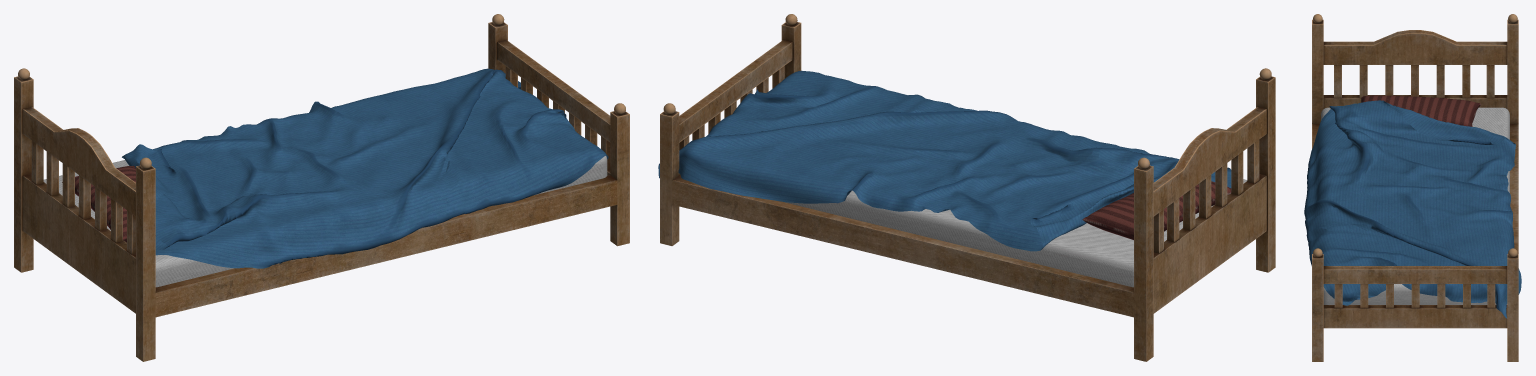
Rendered from Guest Bed.fbx.
The picture shows the model from 3 angles, left to right: view 1: azimuth 30°, elevation 25°; view 2: azimuth 150°, elevation 25°; view 3: azimuth 270°, elevation 25°; orthographic projection. The views are drawn at different scales.
Visible parts, largest first — view 1: Lowgo, Cube.017, Cube.010; view 2: Lowgo, Cube.017, Cube.010; view 3: Lowgo, Cube.017, Cube.010.
Boxes of the visible parts, x1,y1,x2,y2 form: Lowgo: [62, 68, 608, 268]; Cube.017: [14, 14, 629, 361]; Cube.010: [43, 156, 607, 287]; Lowgo: [658, 70, 1231, 251]; Cube.017: [660, 14, 1275, 361]; Cube.010: [782, 179, 1247, 287]; Lowgo: [1304, 95, 1521, 318]; Cube.017: [1312, 14, 1518, 361]; Cube.010: [1321, 107, 1509, 304].
Size of the model in its own units: 207 by 79.13 by 97.46.
Materials: 3 (3 with a texture image).
